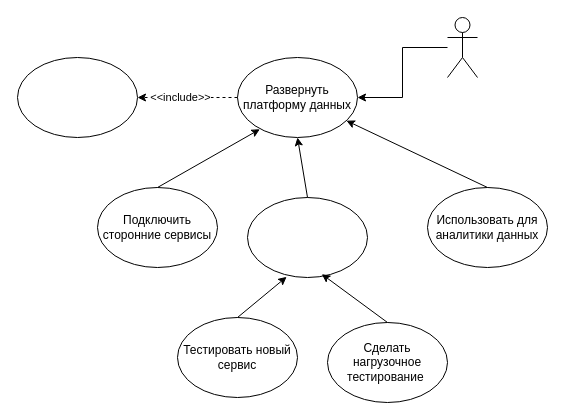
Some shapes in this 565 by 420 pixel diagram are drawn without their labels. Here are the shapes that lost their labels. From the top down, the centre of each, then its label:
At [462,47]: "Пользователь инструмента".
At [77,97]: "Составить конфиг в yaml файле".
At [307,237]: "Использовать для тестирования".
